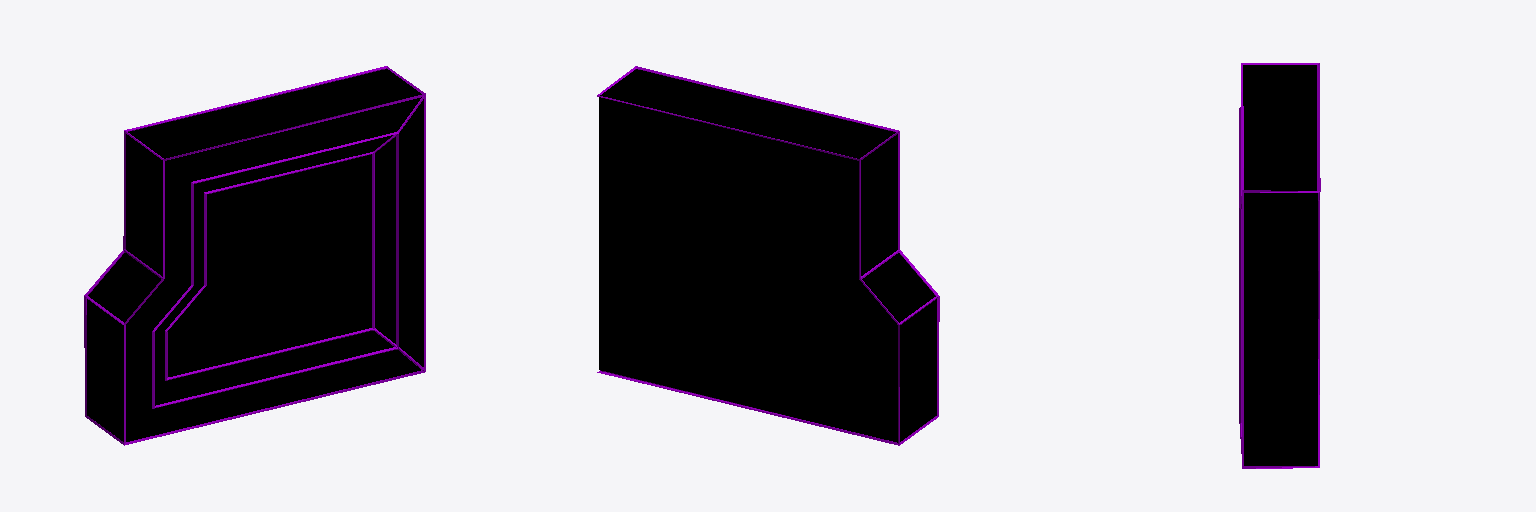
The model's file is gate_inner_l.obj.
3 renders of one model, left to right at view 1: azimuth 30°, elevation 25°; view 2: azimuth 150°, elevation 25°; view 3: azimuth 270°, elevation 25°, orthographic.
Visible parts, largest first — view 1: Cube.002_Cube.005, Cube.004_Cube.007; view 2: Cube.002_Cube.005, Cube.004_Cube.007; view 3: Cube.002_Cube.005, Cube.004_Cube.007.
Part boxes in pixels (x1,y1,x2,y2): Cube.002_Cube.005: (87, 69, 423, 441); Cube.004_Cube.007: (84, 66, 425, 445); Cube.002_Cube.005: (599, 69, 936, 442); Cube.004_Cube.007: (597, 66, 939, 445); Cube.002_Cube.005: (1243, 65, 1317, 465); Cube.004_Cube.007: (1239, 63, 1320, 468).
Size of the model in its own units: 5.58 by 4.9 by 1.29.